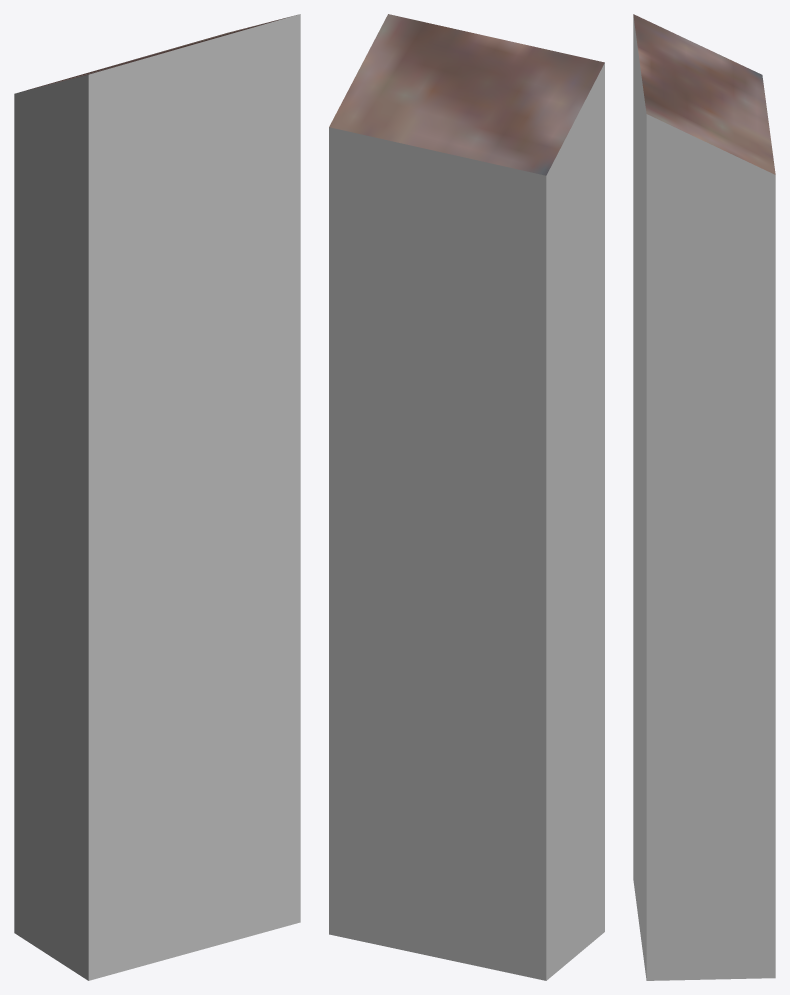
The model's file is DEBW_0010007THWS.gltf.
The picture shows the model from 3 angles, left to right: view 1: azimuth 30°, elevation 25°; view 2: azimuth 150°, elevation 25°; view 3: azimuth 270°, elevation 25°; orthographic projection. The views are drawn at different scales.
Parts seen in each view (by area): view 1: Z_UP; view 2: Z_UP; view 3: Z_UP.
Boxes of the visible parts, box(x1,y1,x2,y2) form: Z_UP: box(14, 14, 300, 980); Z_UP: box(329, 14, 604, 980); Z_UP: box(633, 14, 775, 980).
Bounding box in the file's own units: 4.12 × 15.85 × 2.36.
Materials: 2 (1 with a texture image).
